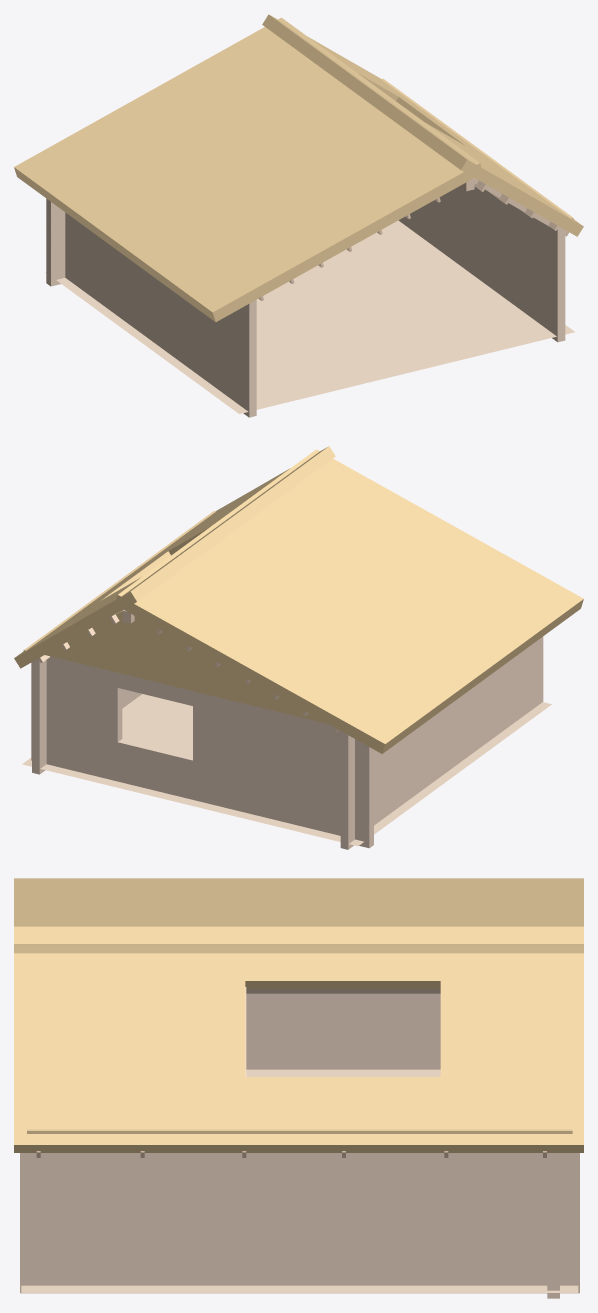
File: inside (4).fbx
3 renders of one model, top to bottom at view 1: azimuth 30°, elevation 25°; view 2: azimuth 150°, elevation 25°; view 3: azimuth 270°, elevation 25°, orthographic. The views are drawn at different scales.
Parts seen in each view (by area): view 1: polySurface130; view 2: polySurface130; view 3: polySurface130.
Boxes of the visible parts, x1,y1,x2,y2 form: polySurface130: (14, 14, 583, 417); polySurface130: (14, 446, 583, 849); polySurface130: (14, 878, 583, 1298).
Bounding box in the file's own units: 48.82 × 25.97 × 45.25.
